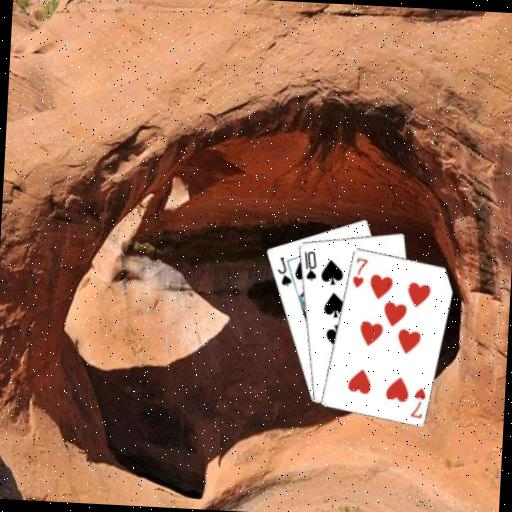10S: (299, 247, 319, 282)
7H: (350, 254, 370, 290), (407, 384, 427, 420)
JS: (273, 253, 295, 288)
